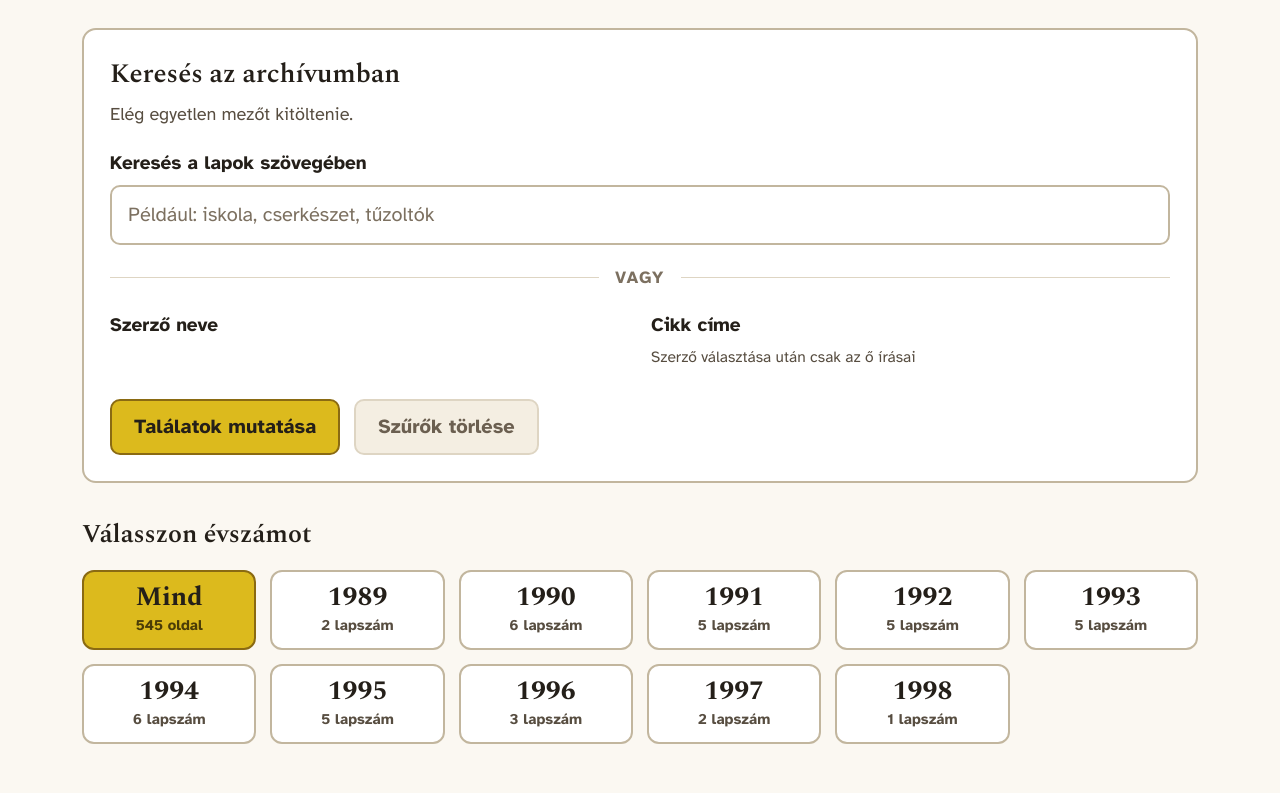
Test: ImageGallery › reports a failed search index instead of claiming no results
Type "szabadság" into the field labelled "Keresés a lapok szövegében" at coordinates (640, 215), box [110,185,1170,245]
Wait 300 ms
(page scrolled)
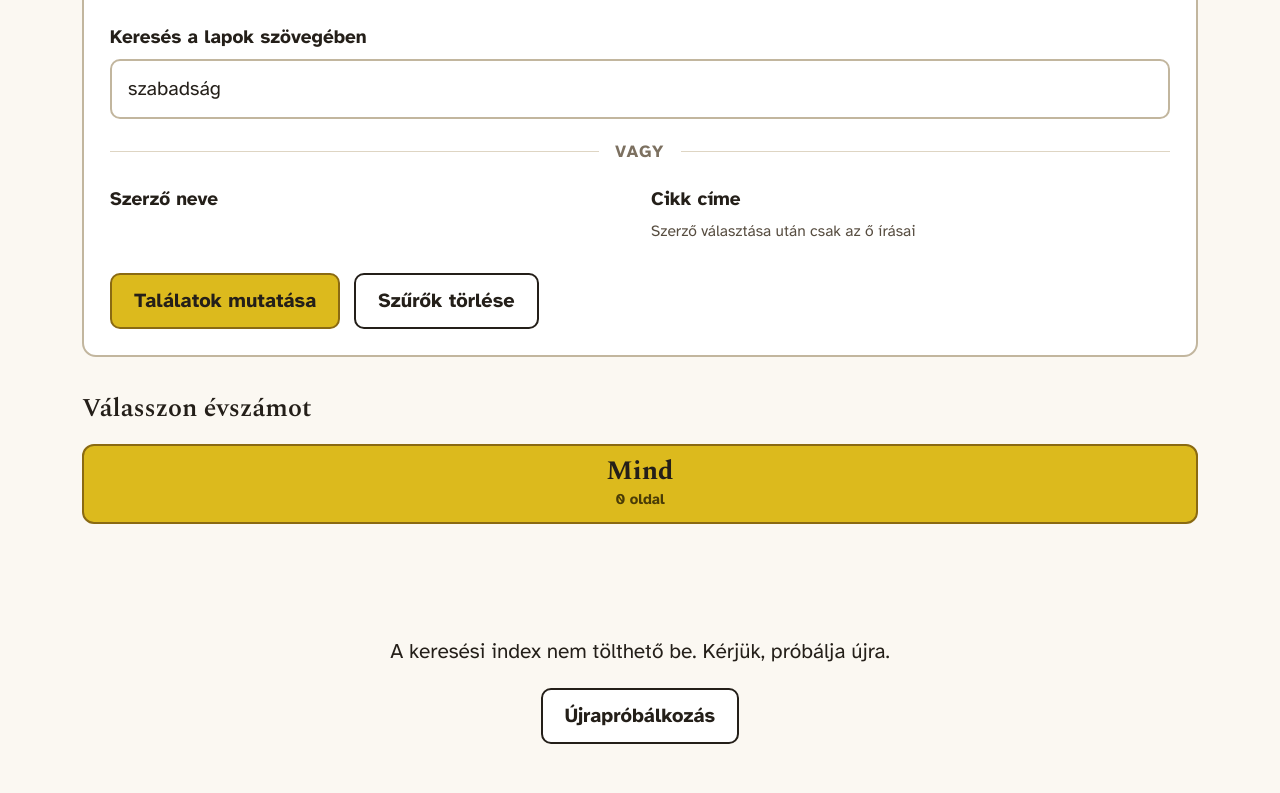
Now the text "A keresési index nem tölthető be. Kérjük, próbálja újra." is shown, box [390,638,890,664]
Now the button "Újrapróbálkozás" is shown, box [541,688,739,744]
